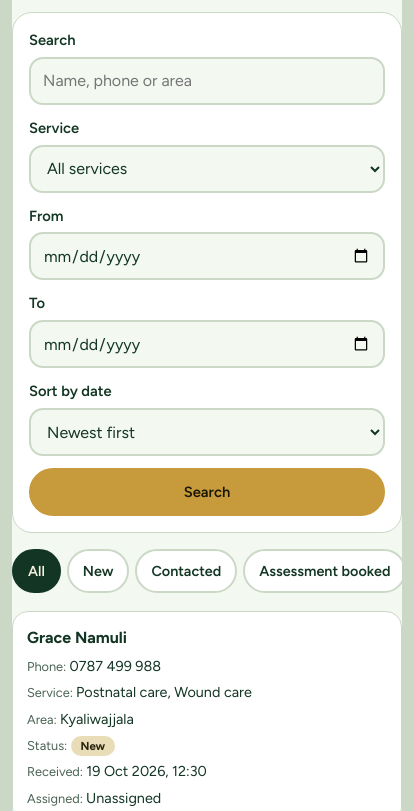
Test case: EnquiriesPage › searches on submit and trims the text
Step 1. Type "  Grace " into the search field labelled "Search" → (207, 81), box [29,57,385,105]
Then press Enter
(page scrolled)
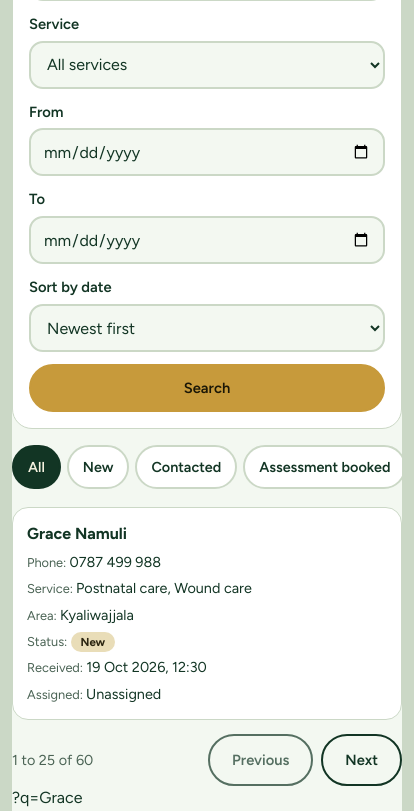
Expected: the text with test id "search" reads "?q=Grace", [12,788,82,807]
